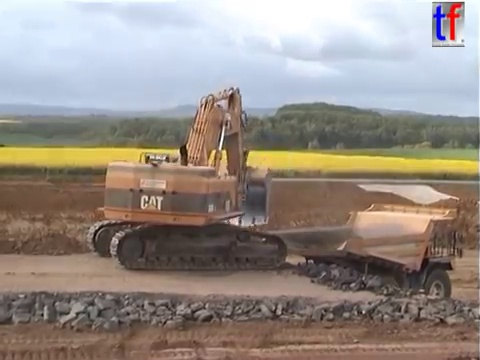excavator: (83, 84, 290, 273)
truck: (250, 201, 467, 318)
